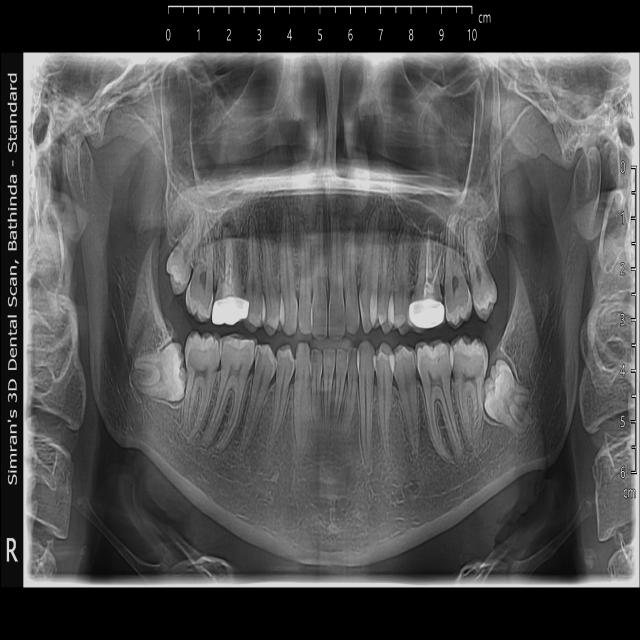Caries: (168, 240, 189, 290)
Filling: (183, 334, 218, 370), (410, 303, 443, 328), (212, 300, 246, 323)
Periapical lesion: (220, 213, 238, 236)
Root Canal Treatment: (409, 226, 447, 330), (212, 230, 249, 325)
impacted tooth: (129, 334, 184, 410), (485, 361, 531, 431)
